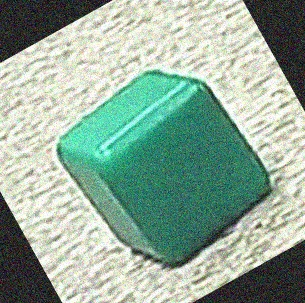green_cube: (44, 57, 280, 269)
